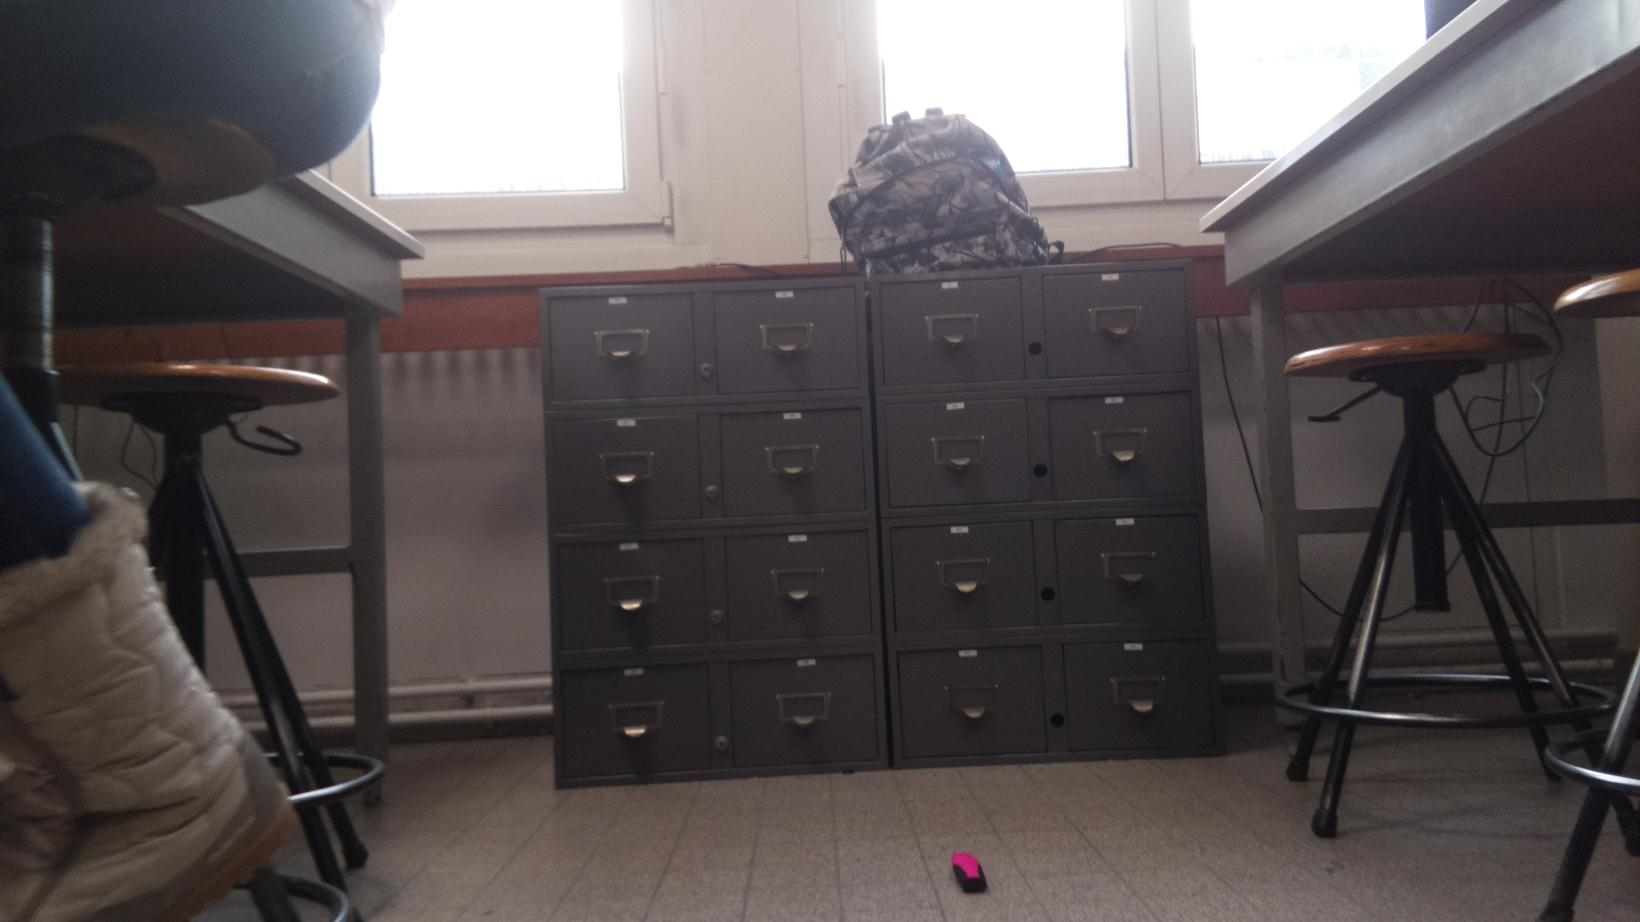big: (815, 99, 1082, 279)
small: (941, 842, 992, 906)
